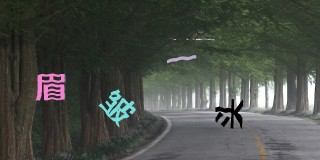一: (167, 54, 197, 64)
头: (214, 98, 244, 129)
皱: (98, 88, 137, 127)
眉: (34, 72, 67, 102)
